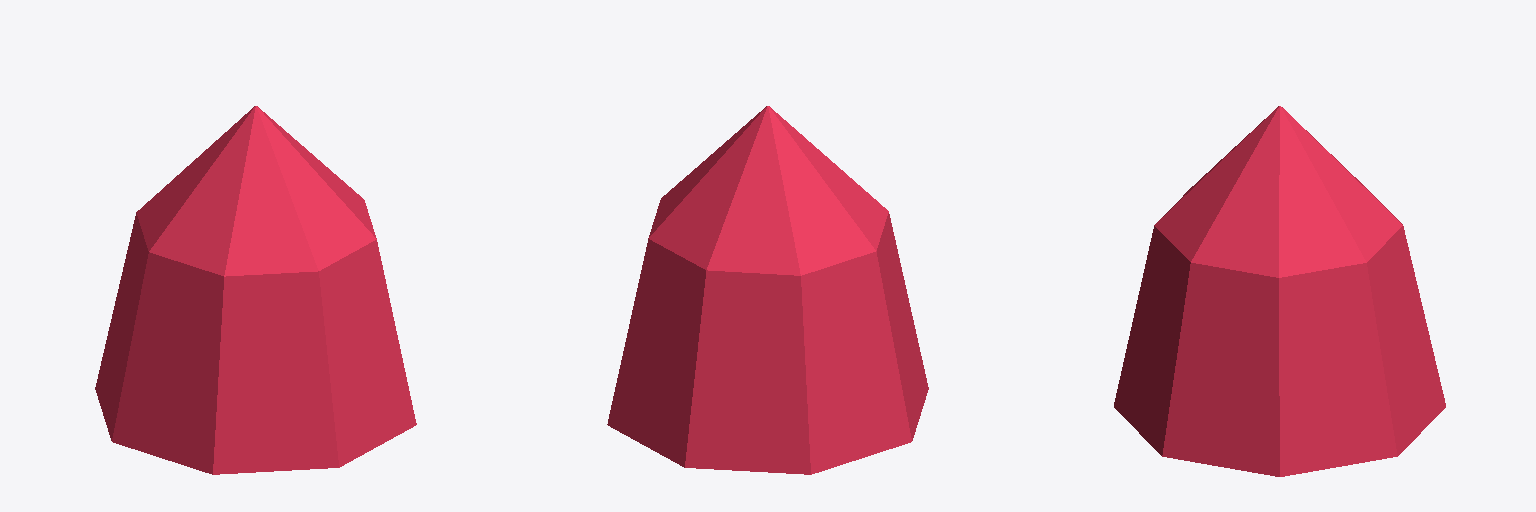
The model's file is UpperHat.obj.
3 views of the same model, side by side, from view 1: azimuth 30°, elevation 25°; view 2: azimuth 150°, elevation 25°; view 3: azimuth 270°, elevation 25° (orthographic).
Visible parts, largest first — view 1: UpperHat; view 2: UpperHat; view 3: UpperHat.
Boxes of the visible parts, x1,y1,x2,y2 form: UpperHat: [95, 106, 416, 474]; UpperHat: [607, 106, 928, 474]; UpperHat: [1114, 106, 1445, 476].
Size of the model in its own units: 2 by 2 by 2.